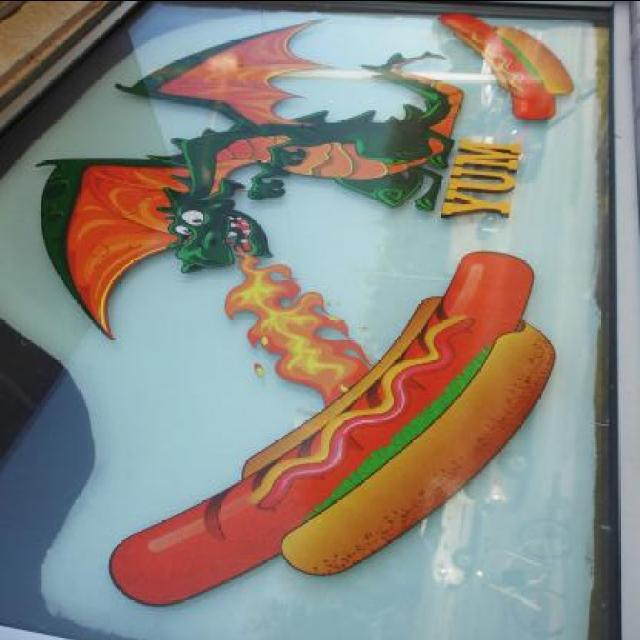Hot dog: (100, 251, 556, 607)
